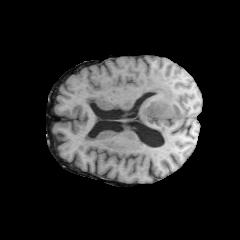glioma: (130, 69, 180, 130)
